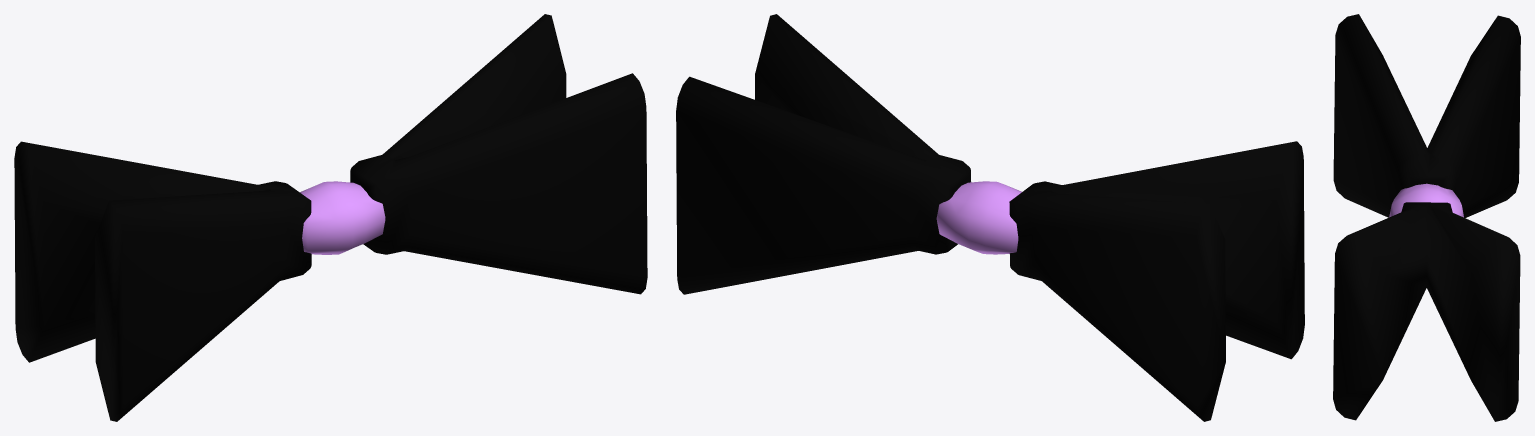
The model's file is tie.fbx.
The picture shows the model from 3 angles, left to right: view 1: azimuth 30°, elevation 25°; view 2: azimuth 150°, elevation 25°; view 3: azimuth 270°, elevation 25°; orthographic projection. The views are drawn at different scales.
Visible parts, largest first — view 1: Char1.001; view 2: Char1.001; view 3: Char1.001.
Part boxes in pixels (x1=…): Char1.001: x1=14, y1=14, x2=647, y2=421; Char1.001: x1=676, y1=14, x2=1304, y2=421; Char1.001: x1=1333, y1=14, x2=1520, y2=421.
Bounding box in the file's own units: 56.66 × 22.8 × 20.54.
